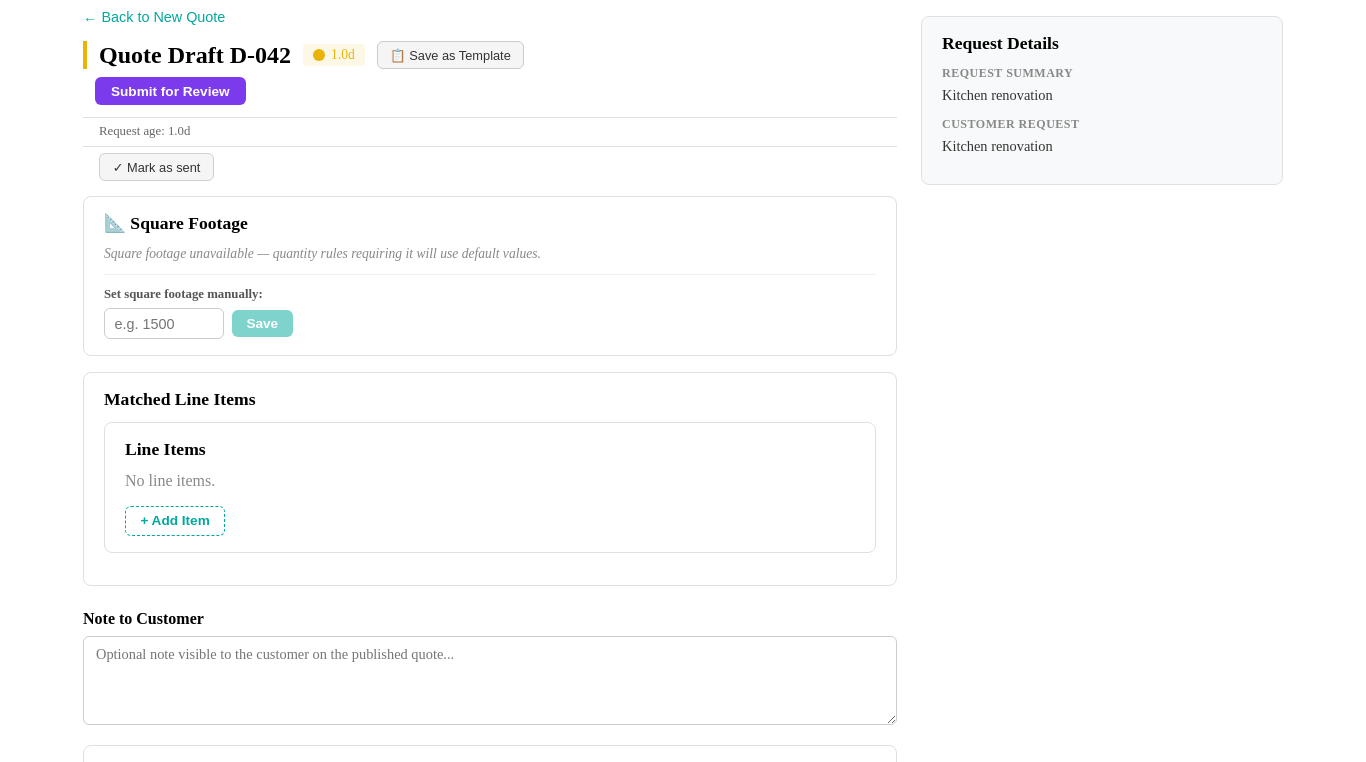
Test: DeathclockDashboardPage — Phase 3 › shows error state when mark-as-sent fails
Expected: the heading "Quote Draft D-042" is shown, [99,42,291,69]
Open dialog
What coordinates should you click on to do the following:
click the button with aria-label "Mark quote as sent"
I would click on:
 (157, 167)
Its box is [99,153,214,181].
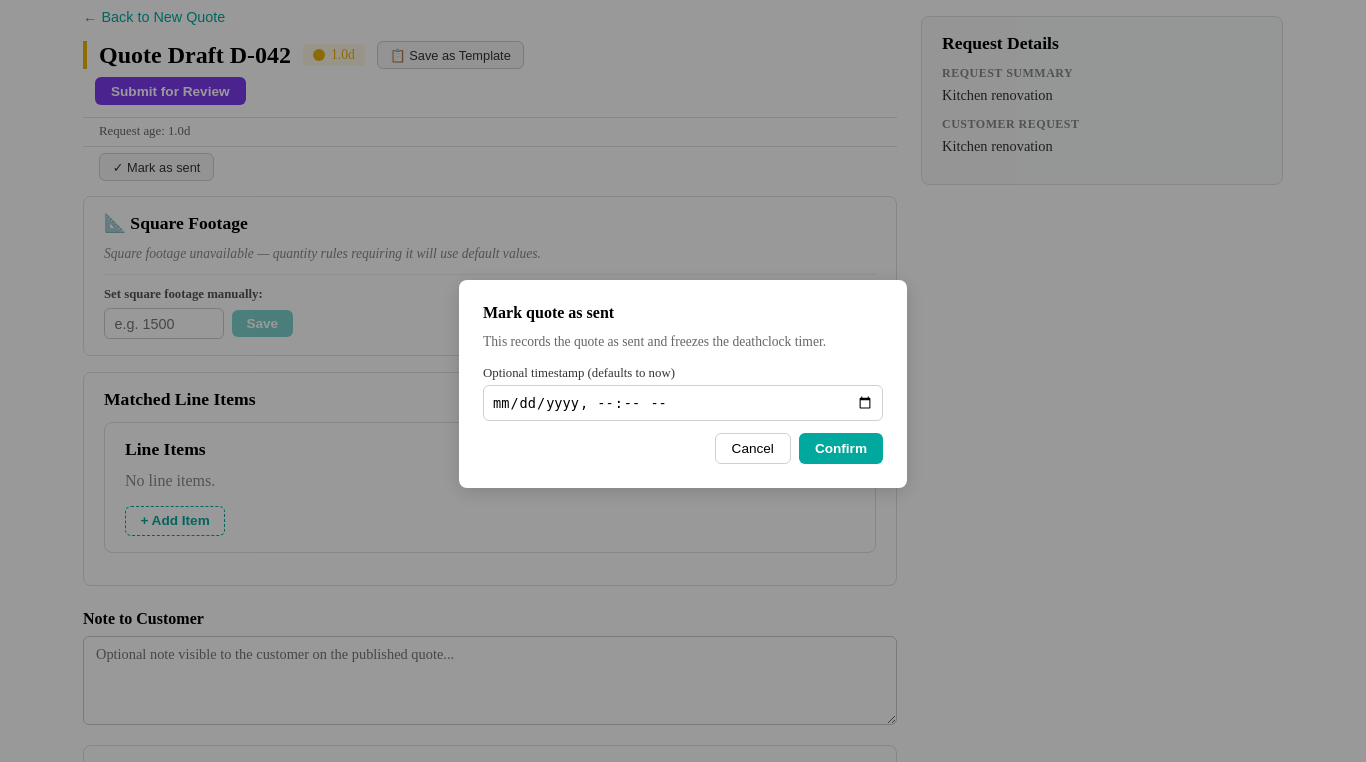
What coordinates should you click on to do the following:
click the button with aria-label "Confirm mark as sent"
I would click on:
 (841, 448)
Its box is [799,433,883,464].
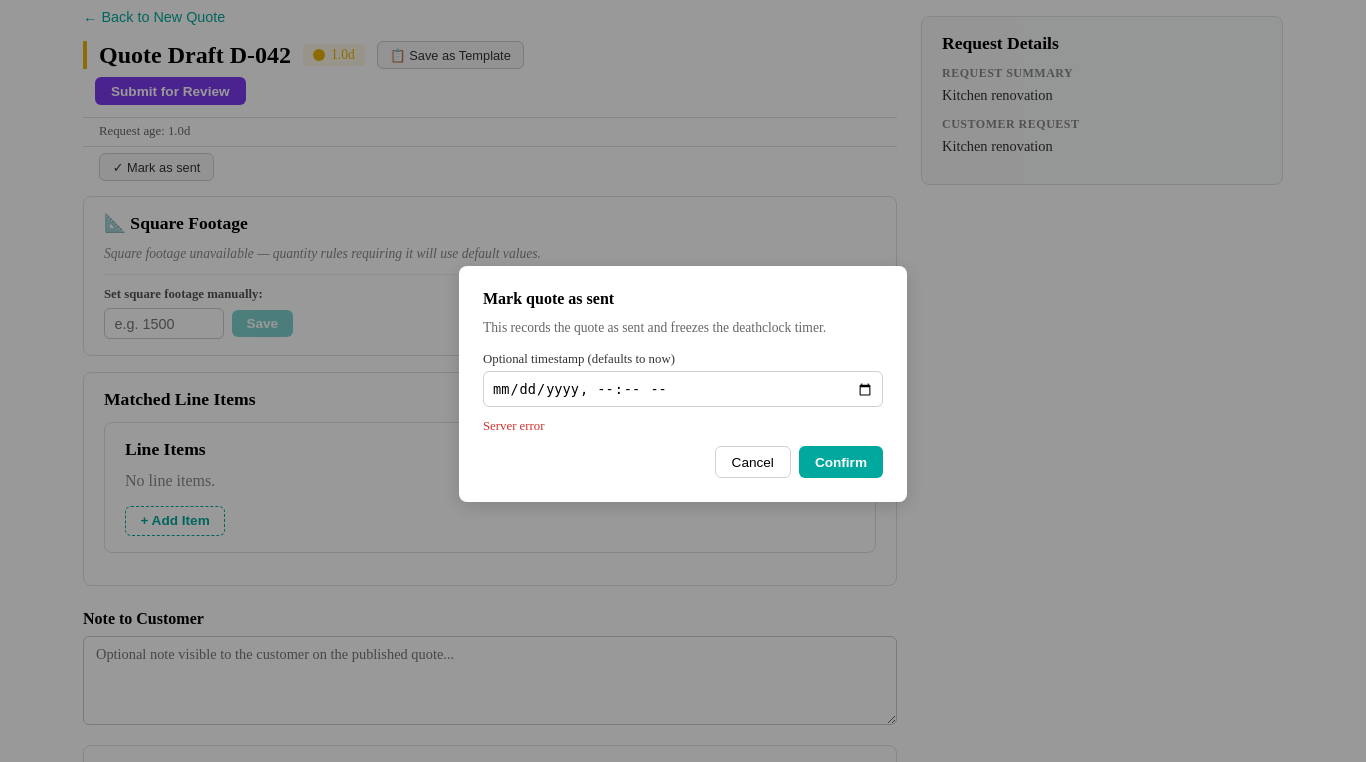
Result: the message reads "Server error" at [483,419,544,433]
